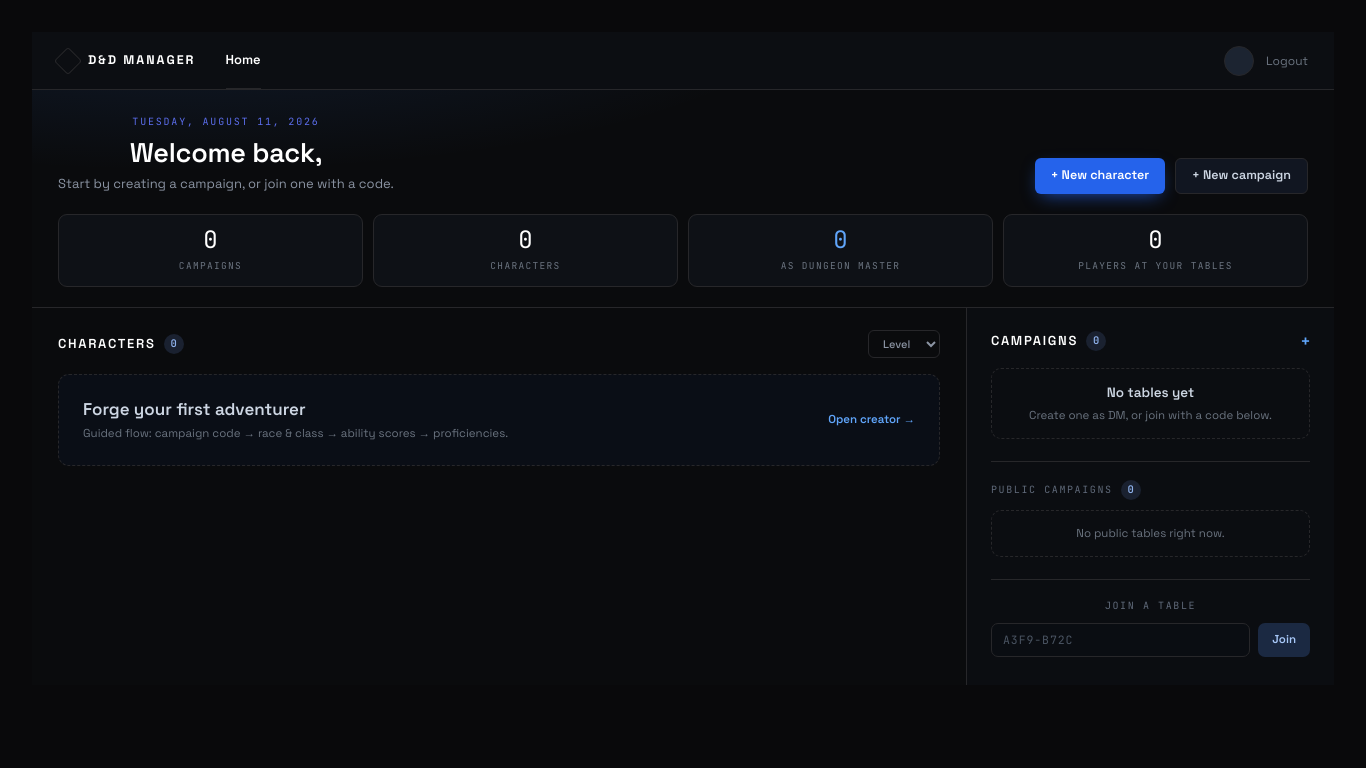
Test: App logout returns to demo landing › shows the demo landing (not the login form) after logging out
This screenshot has width=1366, height=768.
Expected: the button "+ New character" is shown, 1035,158 -> 1165,194
Step 1. Click the button "Logout" → (1287, 60), box 1266,52 -> 1308,70
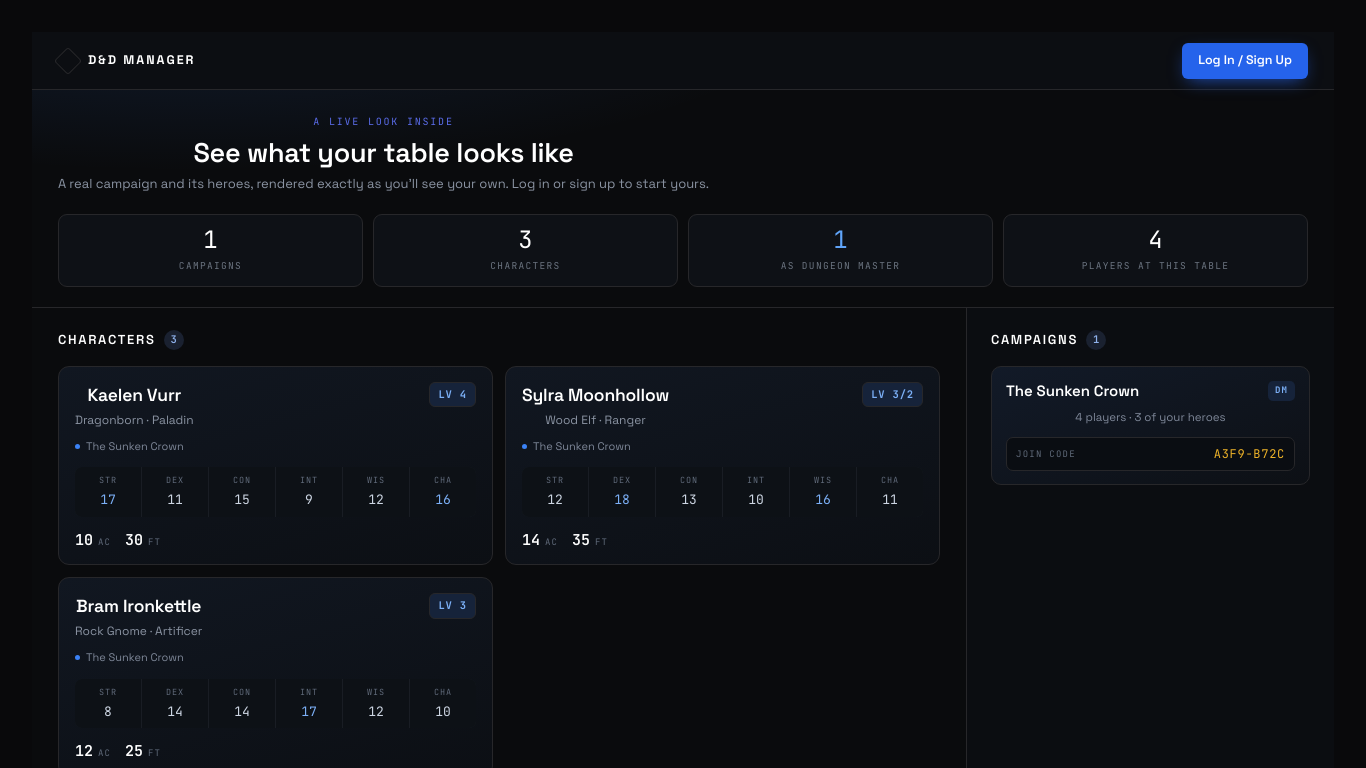
Expected: the button "Log In / Sign Up" is shown, 1182,42 -> 1308,78
